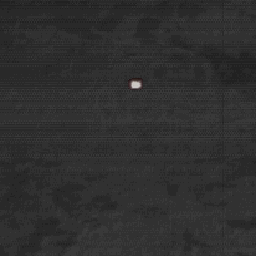Target: (129, 79, 142, 88)
